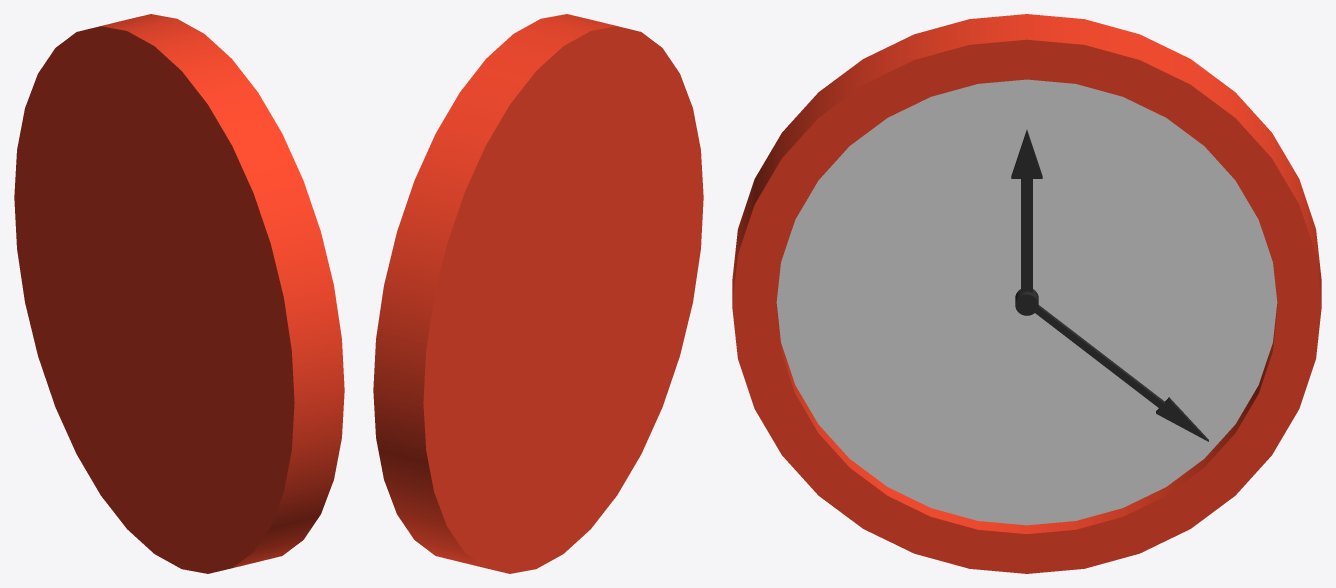
Rendered from Clock.fbx.
3 views of the same model, side by side, from view 1: azimuth 30°, elevation 25°; view 2: azimuth 150°, elevation 25°; view 3: azimuth 270°, elevation 25° (orthographic). The views are drawn at different scales.
Visible parts, largest first — view 1: Clock; view 2: Clock; view 3: Clock.
Part boxes in pixels (x1,y1,x2,y2): Clock: (14,14,344,573); Clock: (373,14,703,573); Clock: (732,14,1321,573).
Bounding box in the file's own units: 178 × 18.36 × 178.
